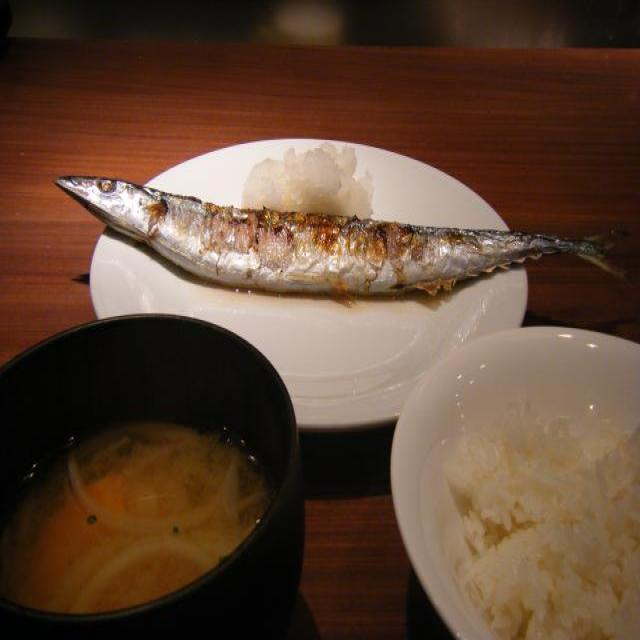熟制海鲜: (20, 112, 640, 320)
